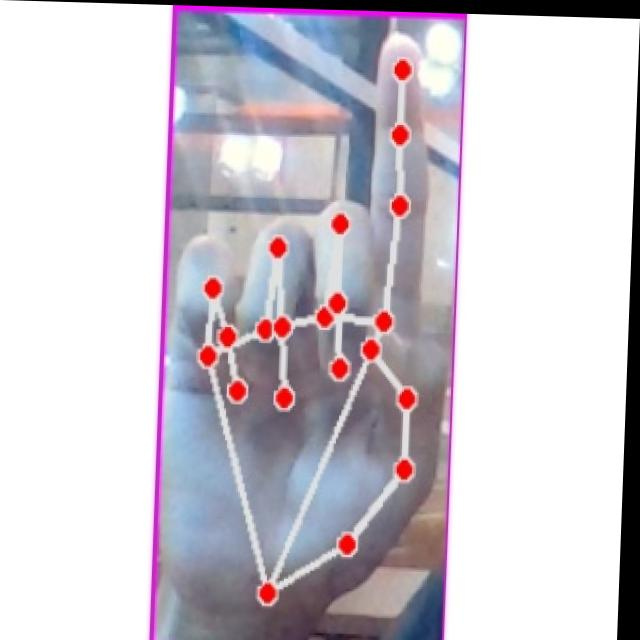D: (171, 18, 462, 618)
